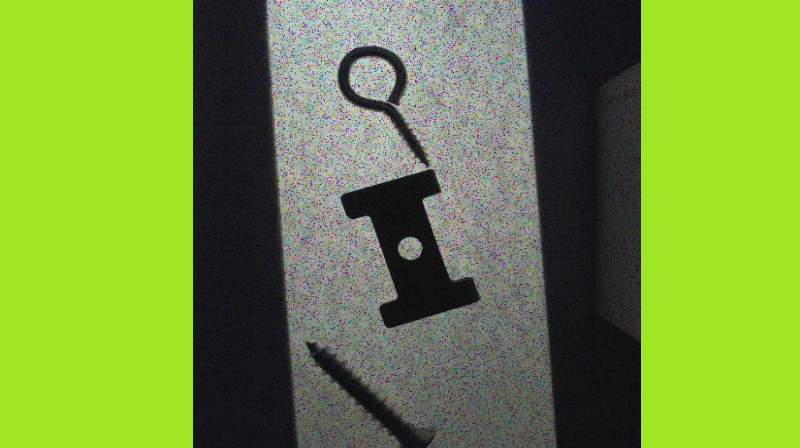O001: (335, 44, 432, 167)
O002: (340, 170, 481, 327)
S001: (304, 338, 439, 447)
